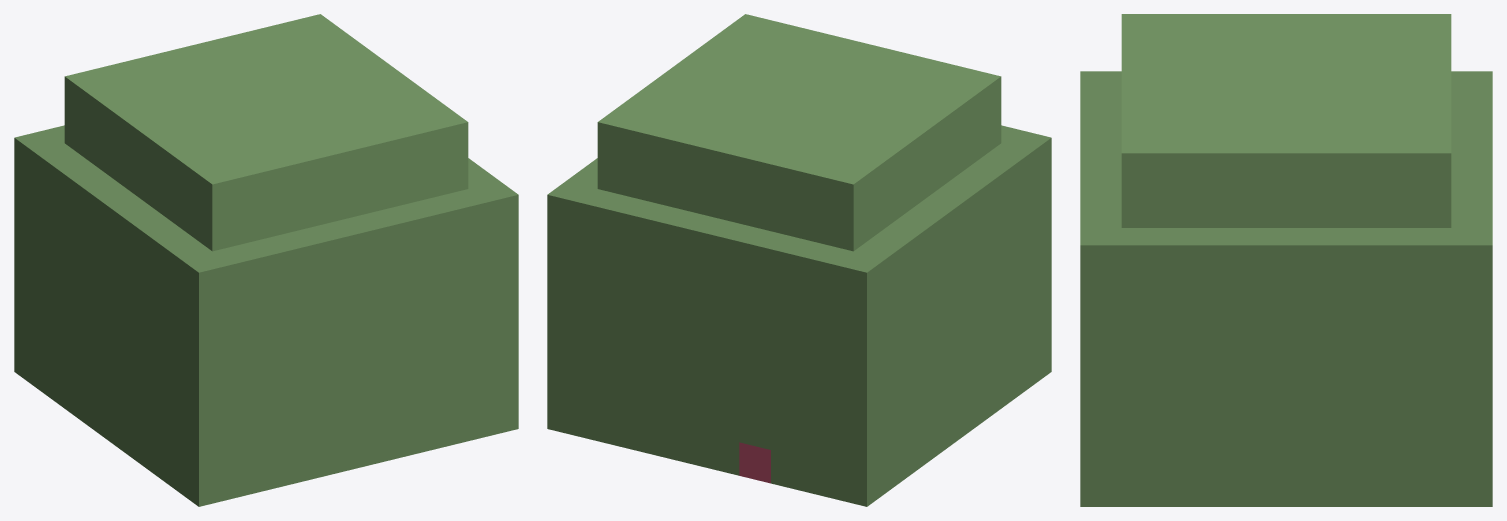
File: frambuesa_03.glb
3 renders of one model, left to right at view 1: azimuth 30°, elevation 25°; view 2: azimuth 150°, elevation 25°; view 3: azimuth 270°, elevation 25°, orthographic. The views are drawn at different scales.
Parts seen in each view (by area): view 1: frambuesa_03; view 2: frambuesa_03; view 3: frambuesa_03.
Part boxes in pixels (<box>): frambuesa_03: <box>14,14,518,506</box>; frambuesa_03: <box>547,14,1051,506</box>; frambuesa_03: <box>1080,14,1492,506</box>.
Bounding box in the file's own units: 1 × 0.9 × 1.
